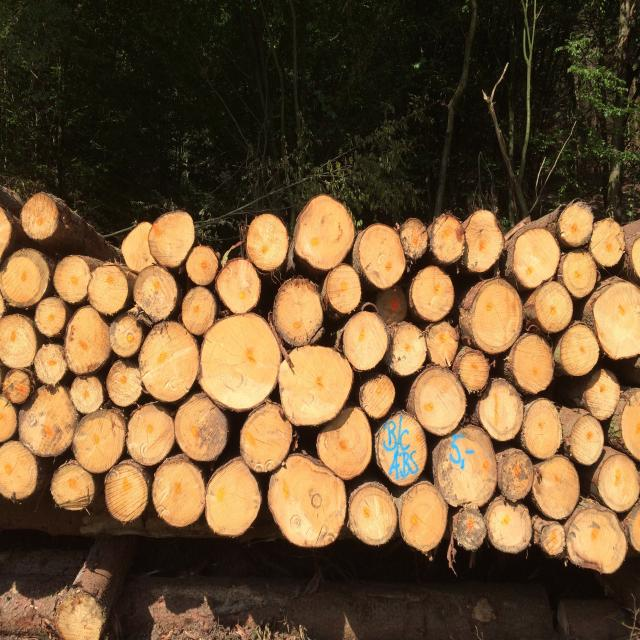wood-log: (199, 315, 282, 413), (266, 454, 346, 548), (278, 343, 352, 425), (430, 425, 495, 506), (139, 321, 200, 401), (462, 279, 525, 356), (294, 196, 358, 270), (204, 460, 260, 538), (17, 388, 78, 459), (319, 404, 375, 478), (373, 410, 427, 485), (564, 507, 624, 573), (408, 366, 466, 434), (154, 455, 208, 527), (177, 393, 233, 462), (590, 283, 638, 363), (238, 402, 290, 472), (272, 276, 324, 346), (399, 482, 451, 552), (72, 407, 125, 471), (64, 307, 112, 376), (356, 226, 406, 292), (126, 402, 175, 466), (348, 481, 397, 545), (508, 230, 560, 290), (534, 455, 580, 520), (590, 452, 638, 514), (478, 381, 526, 443), (0, 248, 48, 307), (341, 313, 387, 374), (245, 212, 291, 271), (105, 462, 150, 522), (510, 333, 554, 393), (150, 212, 197, 268), (409, 264, 455, 320), (520, 398, 562, 459), (216, 258, 261, 314), (466, 212, 506, 275), (56, 590, 106, 640), (136, 265, 180, 321), (486, 500, 532, 553), (554, 324, 600, 376), (120, 220, 162, 274), (0, 440, 37, 500), (89, 263, 131, 315), (0, 314, 39, 370), (495, 446, 534, 502), (388, 323, 427, 377), (532, 282, 572, 333), (566, 415, 604, 467), (52, 462, 93, 509), (326, 265, 365, 314), (55, 255, 93, 305), (559, 252, 600, 298), (21, 194, 60, 242), (431, 214, 467, 265), (584, 368, 620, 419), (180, 288, 218, 336), (107, 360, 144, 408), (453, 346, 490, 394), (590, 220, 626, 268), (558, 203, 596, 247), (361, 373, 397, 419), (426, 322, 460, 369), (451, 506, 485, 552), (34, 343, 69, 385), (113, 314, 145, 359), (34, 295, 68, 337), (621, 389, 640, 462), (185, 243, 218, 284), (71, 375, 105, 414), (374, 286, 408, 324), (400, 219, 429, 261), (3, 370, 33, 405), (539, 523, 567, 557), (0, 395, 17, 443), (627, 503, 640, 555), (0, 205, 12, 258), (632, 238, 640, 277), (0, 294, 7, 318)
